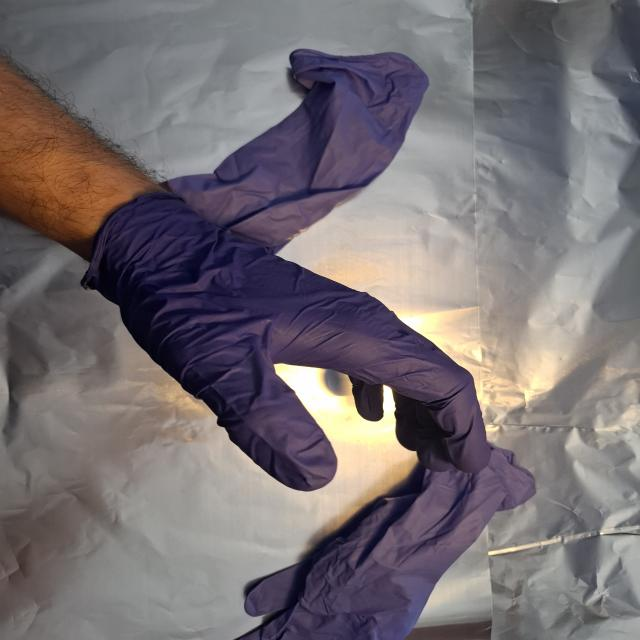glove_on: (81, 189, 498, 493)
